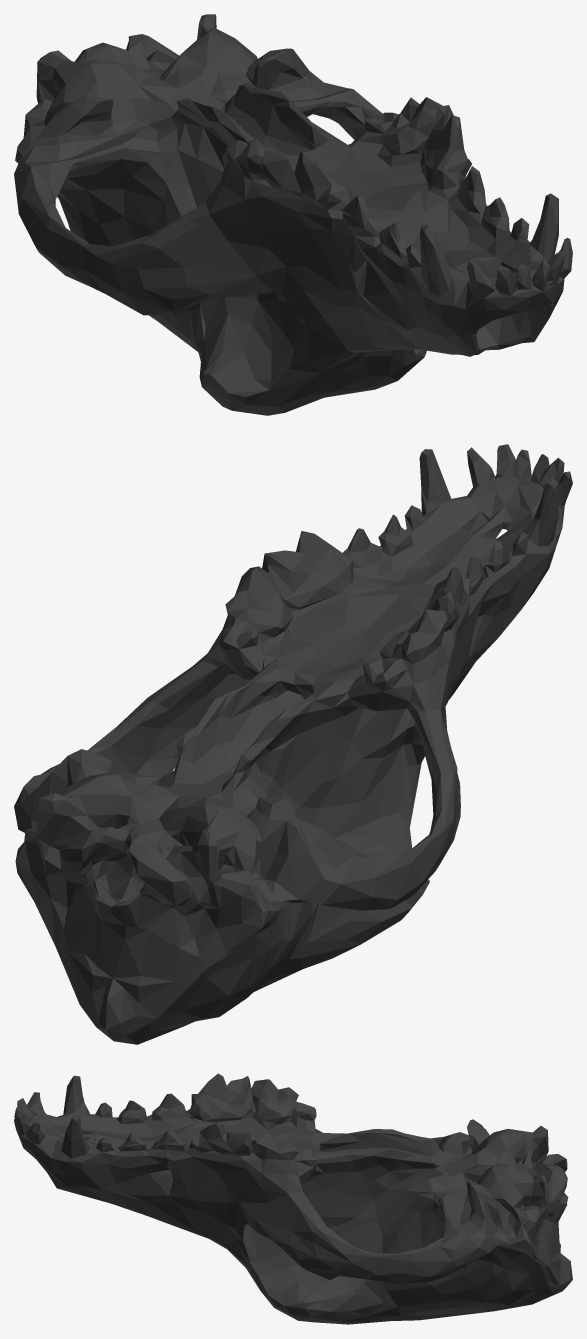
The model's file is Cranium.glb.
3 views of the same model, one above another, from view 1: azimuth 30°, elevation 25°; view 2: azimuth 150°, elevation 25°; view 3: azimuth 270°, elevation 25° (orthographic). The views are drawn at different scales.
Visible parts, largest first — view 1: Cranium; view 2: Cranium; view 3: Cranium.
Boxes of the visible parts, <box> form: Cranium: <box>14,14,572,415</box>; Cranium: <box>14,444,572,1044</box>; Cranium: <box>14,1073,572,1324</box>.
Bounding box in the file's own units: 0.0028 × 0.00254 × 0.00575.
Materials: 1 (1 with a texture image).
